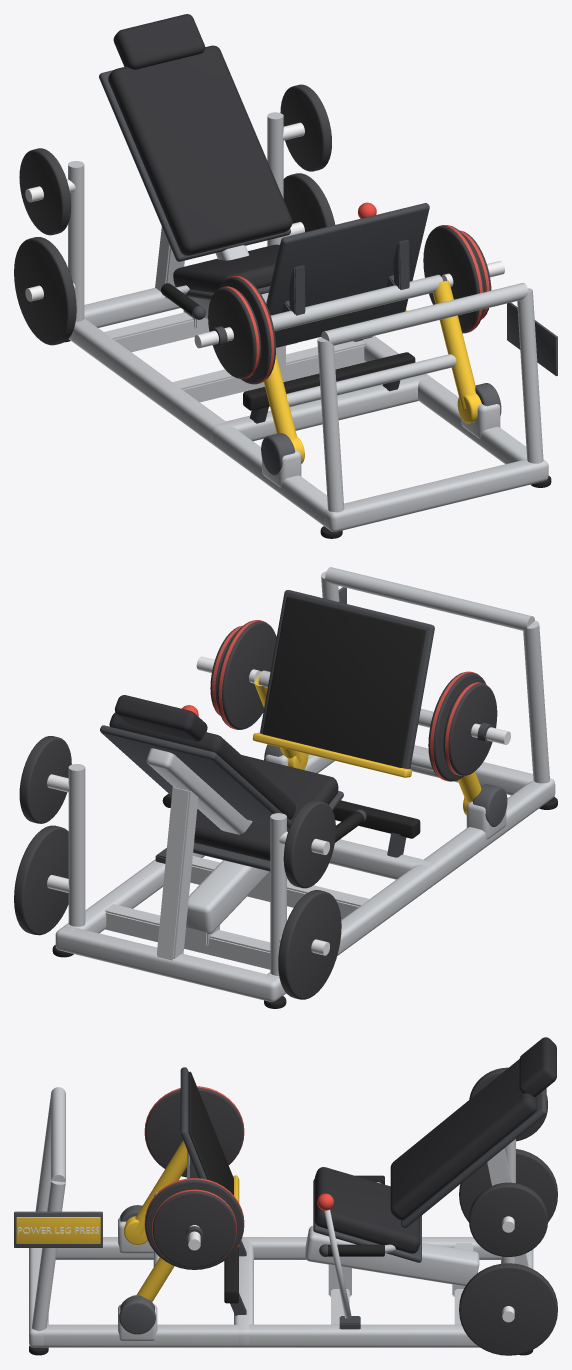
File: PowerLegPress_Clean.fbx
The picture shows the model from 3 angles, top to bottom: view 1: azimuth 30°, elevation 25°; view 2: azimuth 150°, elevation 25°; view 3: azimuth 270°, elevation 25°; orthographic projection. The views are drawn at different scales.
Parts seen in each view (by area): view 1: Backrest, FootPlate, Base_Rail_L, Base_Cross_Front, Stored_Plate_L1, Base_Cross_Mid, Headrest, Front_Guard_Top, Stored_Plate_L2, Base_Cross_Seat_Front, Plate_R1, Base_Rail_R (+24 smaller); view 2: FootPlate_Grip, Base_Rail_L, Base_Cross_Back, Stored_Plate_L1, Backrest_Shell, Stored_Plate_R1, Backrest_Rear_Strut, Seat, Plate_R1, Front_Guard_Top, Base_Cross_Seat_Back, Stored_Plate_L2 (+20 smaller); view 3: Base_Rail_R, Backrest, Stored_Plate_R1, Seat, Plate_R2, Stored_Plate_R2, Seat_Frame, Plate_L1, Base_Rail_L, Stored_Plate_L1, FootPlate_Grip, Placard (+24 smaller).
Boxes of the visible parts, x1,y1,x2,y2 form: Backrest: [108, 45, 292, 255]; FootPlate: [266, 203, 429, 347]; Base_Rail_L: [69, 318, 327, 527]; Base_Cross_Front: [324, 459, 548, 531]; Stored_Plate_L1: [14, 237, 76, 345]; Base_Cross_Mid: [210, 374, 431, 447]; Headrest: [113, 14, 204, 69]; Front_Guard_Top: [321, 283, 528, 345]; Stored_Plate_L2: [19, 148, 71, 235]; Base_Cross_Seat_Front: [172, 340, 365, 402]; Plate_R1: [423, 225, 484, 332]; Base_Rail_R: [362, 336, 526, 464]; FootPlate_Grip: [262, 596, 426, 767]; Base_Rail_L: [266, 780, 551, 996]; Base_Cross_Back: [55, 926, 282, 1001]; Stored_Plate_L1: [278, 890, 341, 999]; Backrest_Shell: [100, 725, 291, 829]; Stored_Plate_R1: [14, 825, 68, 935]; Backrest_Rear_Strut: [156, 787, 198, 960]; Seat: [194, 755, 338, 860]; Plate_R1: [217, 620, 276, 729]; Front_Guard_Top: [325, 567, 534, 630]; Base_Cross_Seat_Back: [105, 904, 270, 969]; Stored_Plate_L2: [283, 800, 335, 888]; Base_Rail_R: [38, 1324, 479, 1347]; Backrest: [390, 1059, 537, 1219]; Stored_Plate_R1: [459, 1263, 557, 1355]; Seat: [314, 1167, 420, 1253]; Plate_R2: [152, 1189, 236, 1267]; Stored_Plate_R2: [469, 1182, 547, 1256]; Seat_Frame: [305, 1226, 479, 1286]; Plate_L1: [145, 1086, 243, 1177]; Base_Rail_L: [55, 1237, 500, 1259]; Stored_Plate_L1: [459, 1149, 557, 1222]; FootPlate_Grip: [188, 1071, 233, 1195]; Placard: [16, 1217, 100, 1243].
Size of the model in its own units: 128 by 113 by 220.
